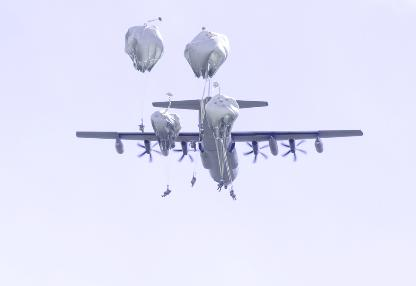Be200: (76, 76, 364, 190)
